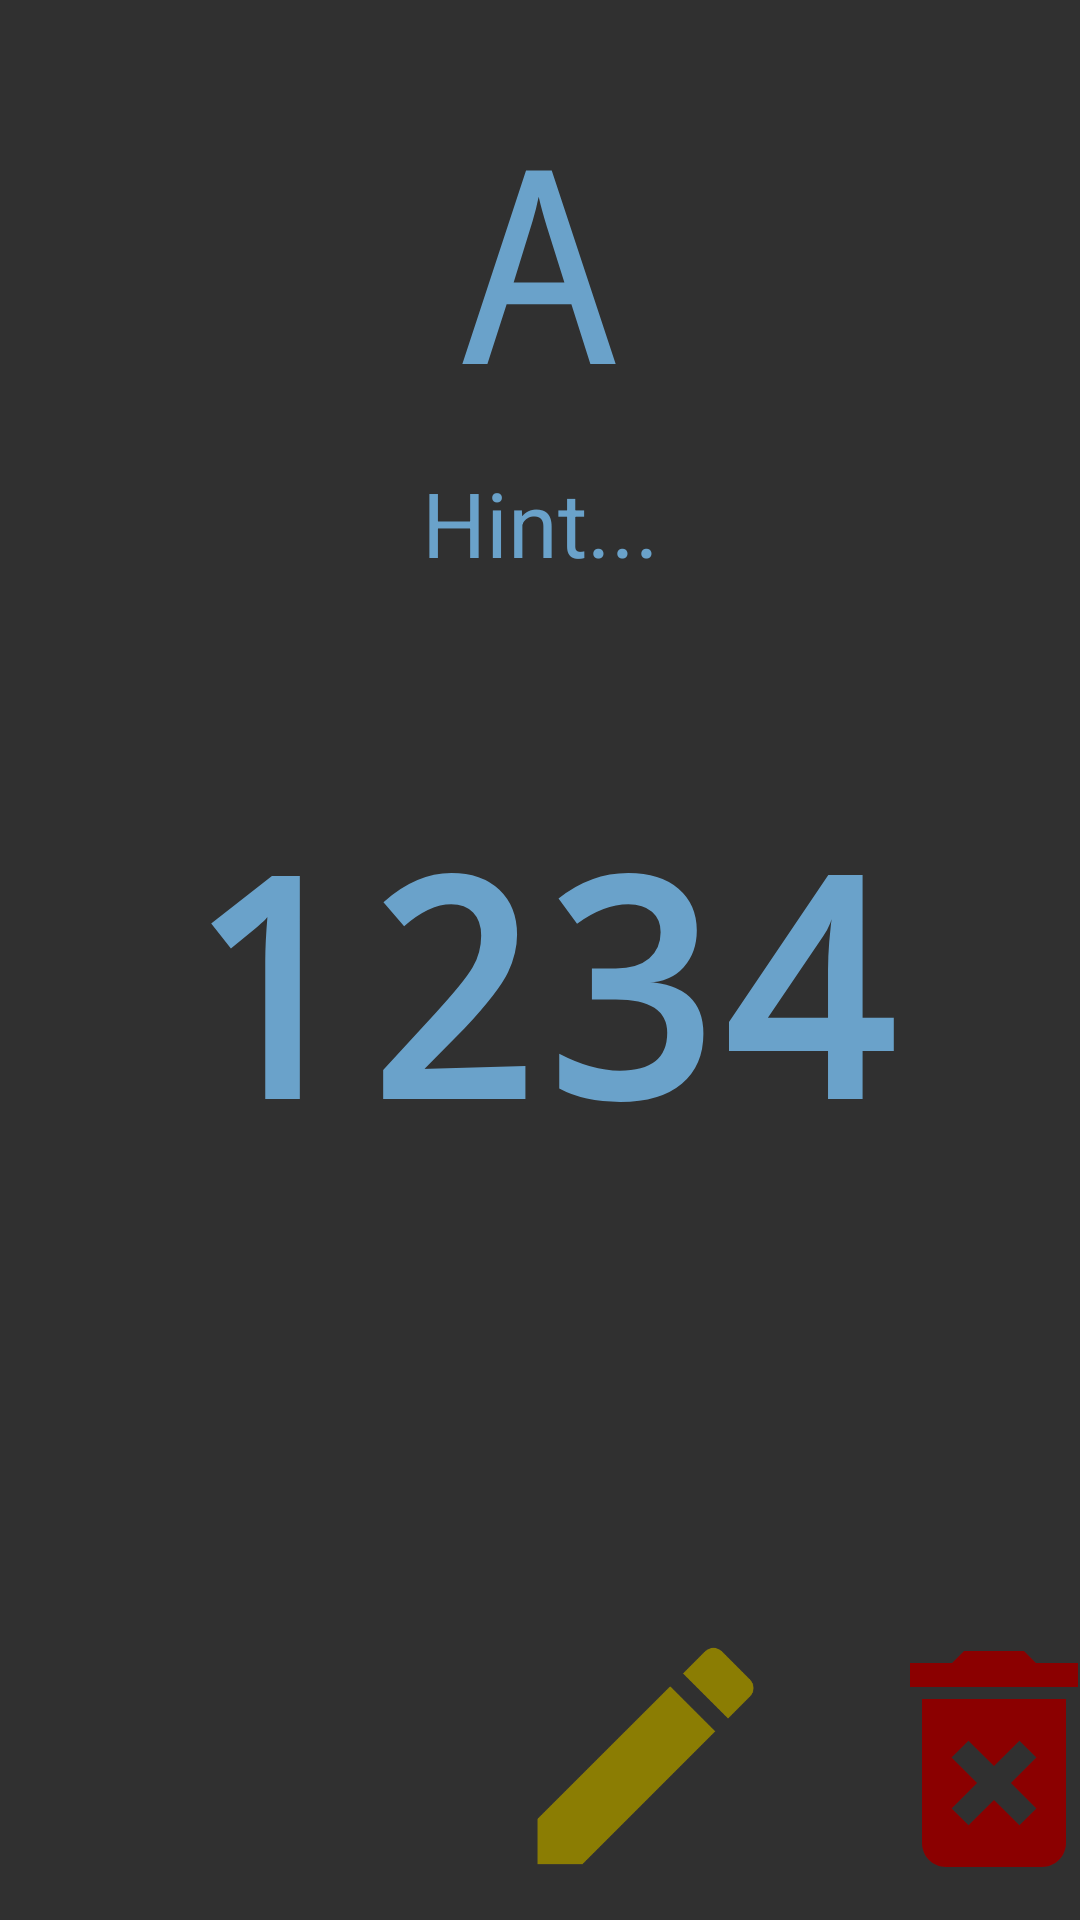

Screen size 1080x1920. Icon name, then its box in pixels as (x1, y1, x2, y2):
edit: (537, 1648, 754, 1864)
